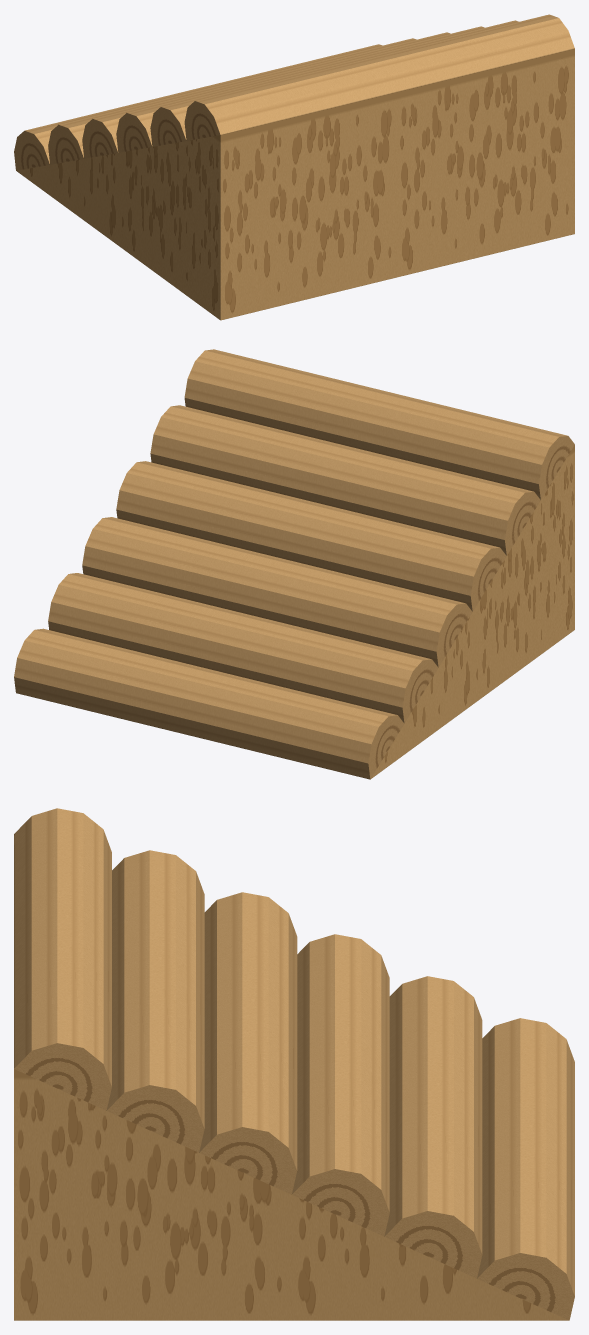
File: slope_2x1_rolls.obj
3 views of the same model, one above another, from view 1: azimuth 30°, elevation 25°; view 2: azimuth 150°, elevation 25°; view 3: azimuth 270°, elevation 25° (orthographic). The views are drawn at different scales.
Size of the model in its own units: 2 by 1.1 by 2.02.
1 material, 1 textured.
